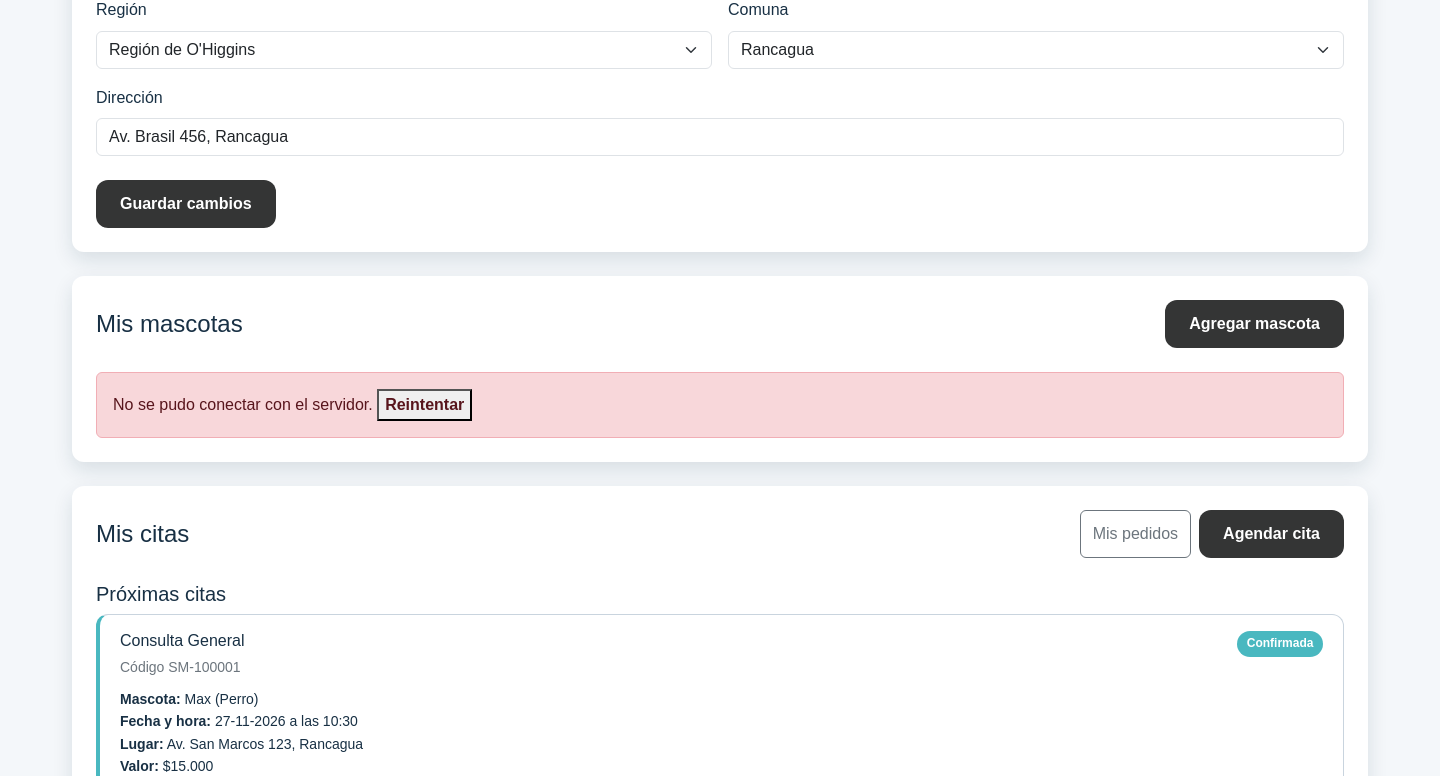
Test: MiPerfil: errores del servicio de mascotas › muestra el error de carga y permite reintentar
(page scrolled)
Expected: the text "No se pudo conectar con el servidor. Reintentar" is shown, [96,372,1344,438]
Click the button "Reintentar" at [425, 405], box [377,389,472,421]
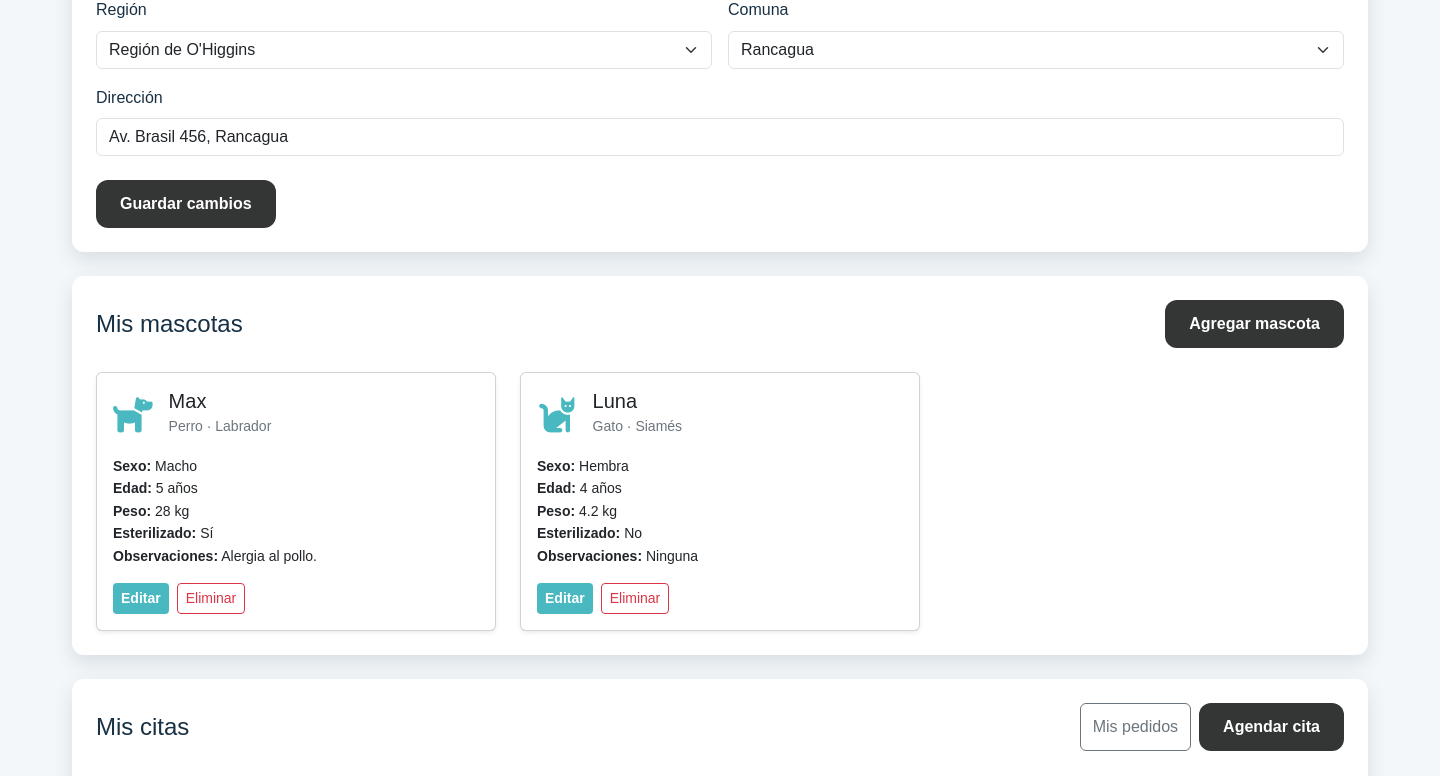
Result: the heading "Max" is shown at [169,390,206,412]
